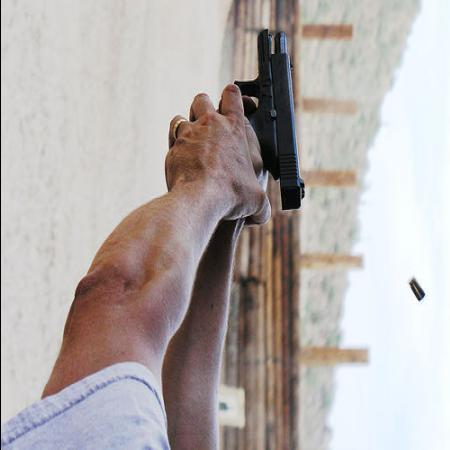Pistol: (234, 27, 308, 208)
